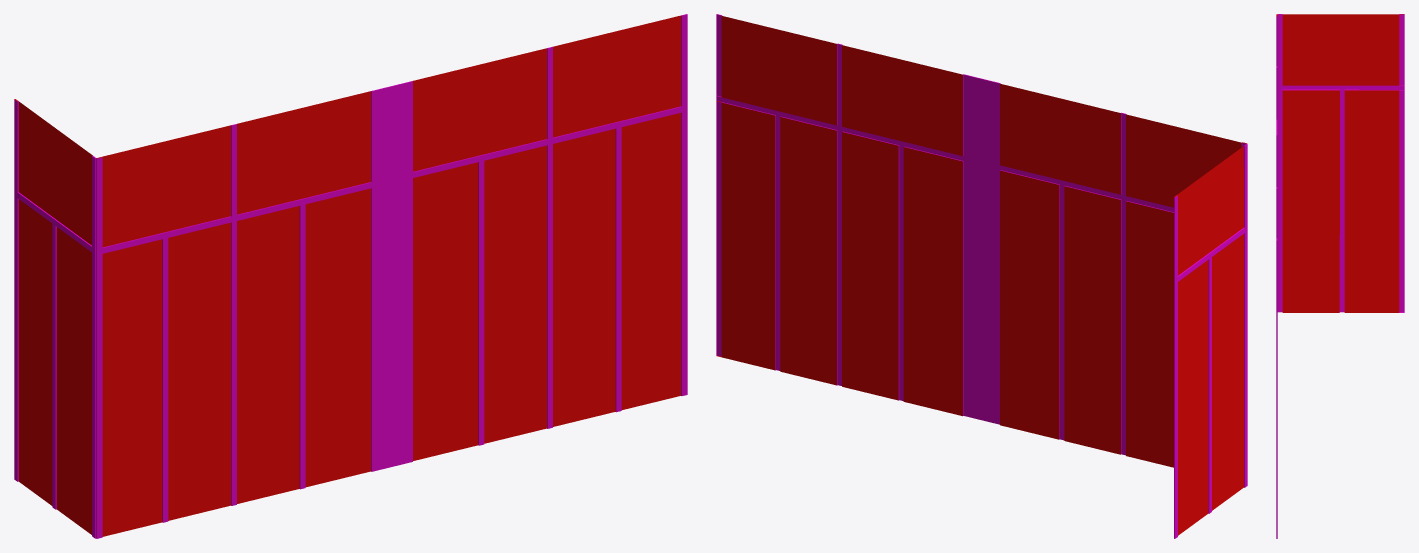
File: wall_toilet.fbx
3 renders of one model, left to right at view 1: azimuth 30°, elevation 25°; view 2: azimuth 150°, elevation 25°; view 3: azimuth 270°, elevation 25°, orthographic. The views are drawn at different scales.
Parts seen in each view (by area): view 1: wall_toilet; view 2: wall_toilet; view 3: wall_toilet.
Part boxes in pixels (left/top/right/bottom): wall_toilet: left=14, top=14, right=687, bottom=538; wall_toilet: left=716, top=14, right=1247, bottom=538; wall_toilet: left=1276, top=14, right=1404, bottom=538.
Bounding box in the file's own units: 651 × 400 × 156.
